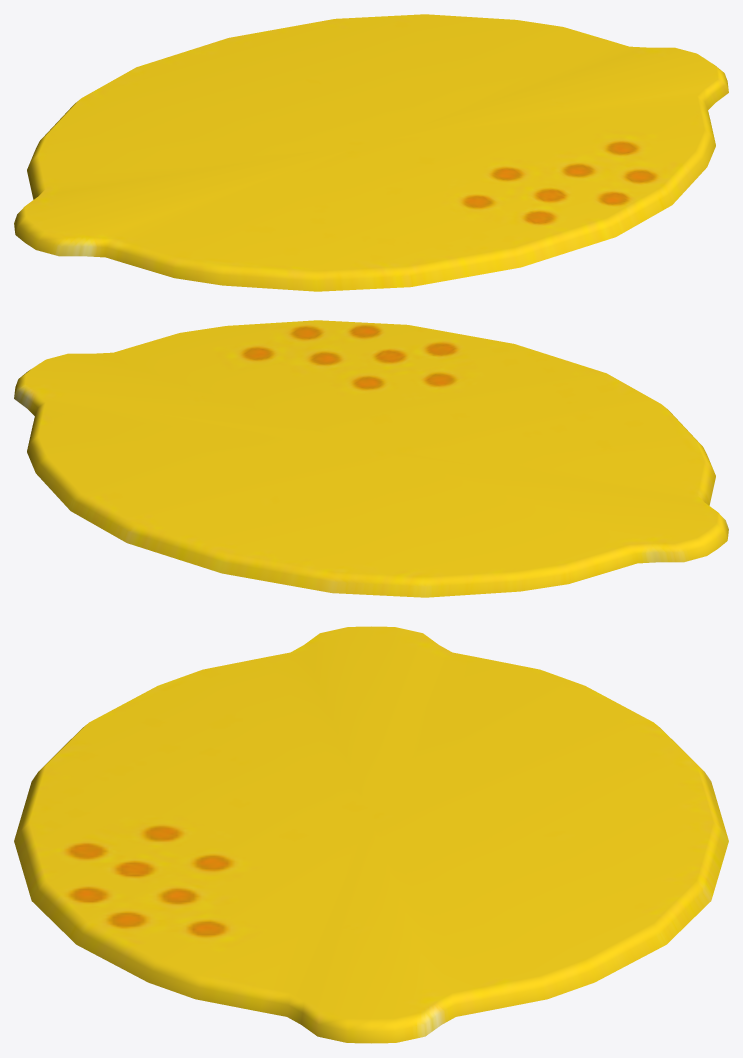
The model's file is Homestead_nm_13.fbx.
3 renders of one model, top to bottom at view 1: azimuth 30°, elevation 25°; view 2: azimuth 150°, elevation 25°; view 3: azimuth 270°, elevation 25°, orthographic. The views are drawn at different scales.
Parts seen in each view (by area): view 1: Homestead_nm_13; view 2: Homestead_nm_13; view 3: Homestead_nm_13.
Boxes of the visible parts, bbox=[...] form: Homestead_nm_13: bbox=[14, 14, 728, 291]; Homestead_nm_13: bbox=[14, 320, 728, 597]; Homestead_nm_13: bbox=[14, 626, 728, 1043].
Size of the model in its own units: 298 by 6.36 by 223.
